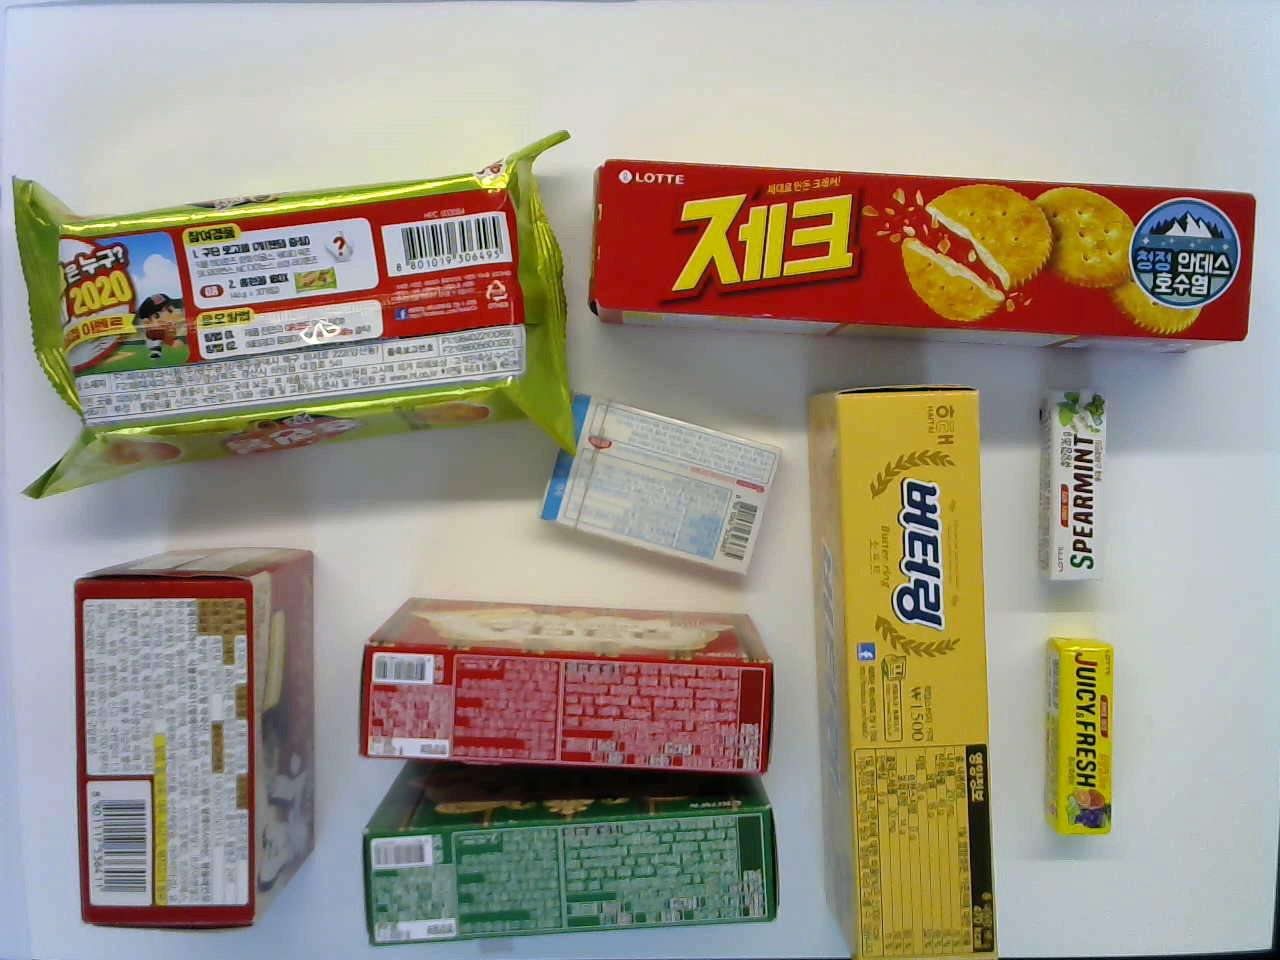ID_gum: (539, 391, 783, 567)
buttering: (827, 385, 978, 952)
chocopie: (68, 546, 317, 924)
couque_coffee: (362, 777, 787, 942)
couque_white: (356, 594, 779, 766)
homerunball: (54, 140, 547, 481)
juicyfresh: (1046, 638, 1117, 840)
spearmint: (1032, 389, 1111, 589)
zec: (595, 163, 1250, 340)
